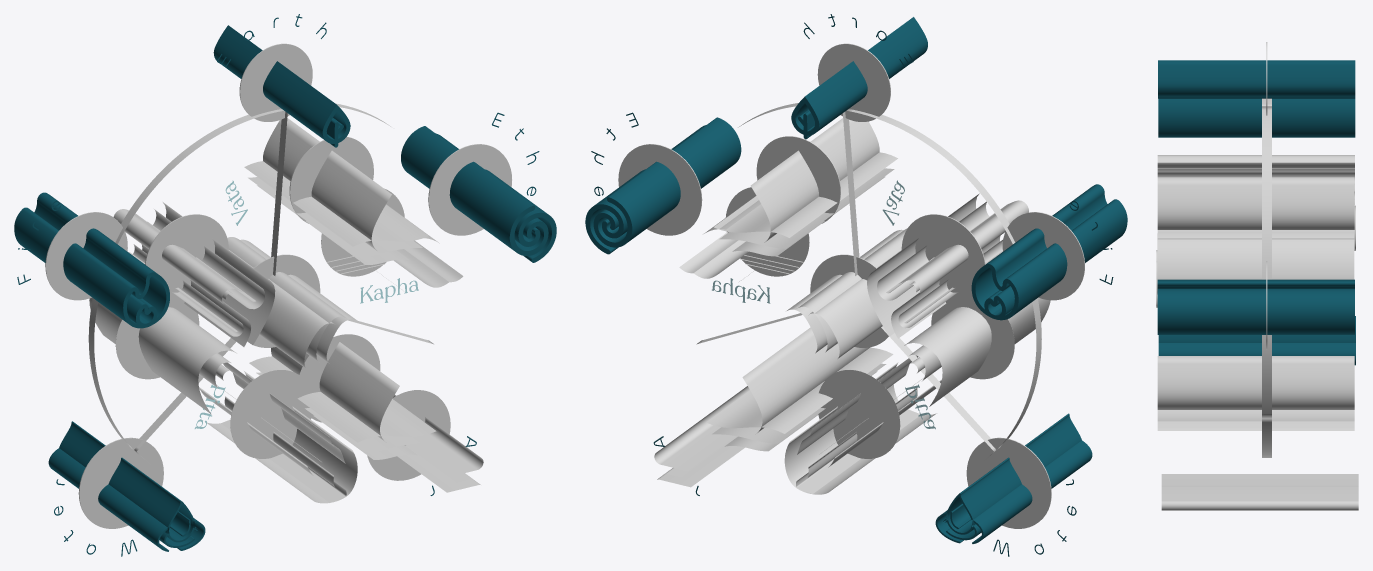
The picture shows the model from 3 angles, left to right: view 1: azimuth 30°, elevation 25°; view 2: azimuth 150°, elevation 25°; view 3: azimuth 270°, elevation 25°; orthographic projection. The views are drawn at different scales.
Parts seen in each view (by area): view 1: Curve.106, Curve.116, Curve.110, Curve.019, Curve.120, Curve.005, Curve.100, Curve.026, Curve.028, Curve.025, Curve.020, Curve.017 (+20 smaller); view 2: Curve.106, Curve.116, Curve.110, Curve.019, Curve.120, Curve.005, Curve.025, Curve.100, Curve.026, Curve.020, Curve.028, Curve.103 (+18 smaller); view 3: Curve.116, Curve.025, Curve.005, Curve.008, Curve.100, Curve.106, Curve.103, Curve.110, Curve.020, Curve.017, Curve.022, Curve.016 (+3 smaller).
Part boxes in pixels (<box>): Curve.106: <box>14,192,169,328</box>; Curve.116: <box>401,126,556,262</box>; Curve.110: <box>48,421,205,551</box>; Curve.019: <box>89,297,236,414</box>; Curve.120: <box>227,237,357,368</box>; Curve.005: <box>263,118,391,250</box>; Curve.100: <box>213,25,350,147</box>; Curve.026: <box>230,369,312,458</box>; Curve.028: <box>199,362,357,503</box>; Curve.025: <box>271,342,399,442</box>; Curve.020: <box>88,103,433,459</box>; Curve.017: <box>147,202,275,344</box>; Curve.106: <box>971,184,1127,320</box>; Curve.116: <box>585,117,741,254</box>; Curve.110: <box>935,413,1092,543</box>; Curve.019: <box>904,297,1050,406</box>; Curve.120: <box>787,228,907,358</box>; Curve.005: <box>750,118,879,242</box>; Curve.025: <box>742,327,869,432</box>; Curve.100: <box>791,17,927,139</box>; Curve.026: <box>818,369,900,458</box>; Curve.020: <box>696,103,1041,460</box>; Curve.028: <box>784,355,941,494</box>; Curve.103: <box>654,386,749,487</box>; Curve.116: <box>1157,279,1354,334</box>; Curve.025: <box>1157,356,1354,409</box>; Curve.005: <box>1157,177,1354,229</box>; Curve.008: <box>1157,233,1354,305</box>; Curve.100: <box>1158,60,1355,98</box>; Curve.106: <box>1158,98,1355,137</box>; Curve.103: <box>1161,474,1358,510</box>; Curve.110: <box>1158,316,1355,365</box>; Curve.020: <box>1262,98,1271,457</box>; Curve.017: <box>1157,162,1354,191</box>; Curve.022: <box>1157,410,1354,421</box>; Curve.016: <box>1157,155,1354,168</box>.
Bounding box in the file's own units: 7.11 × 6.72 × 2.64.
